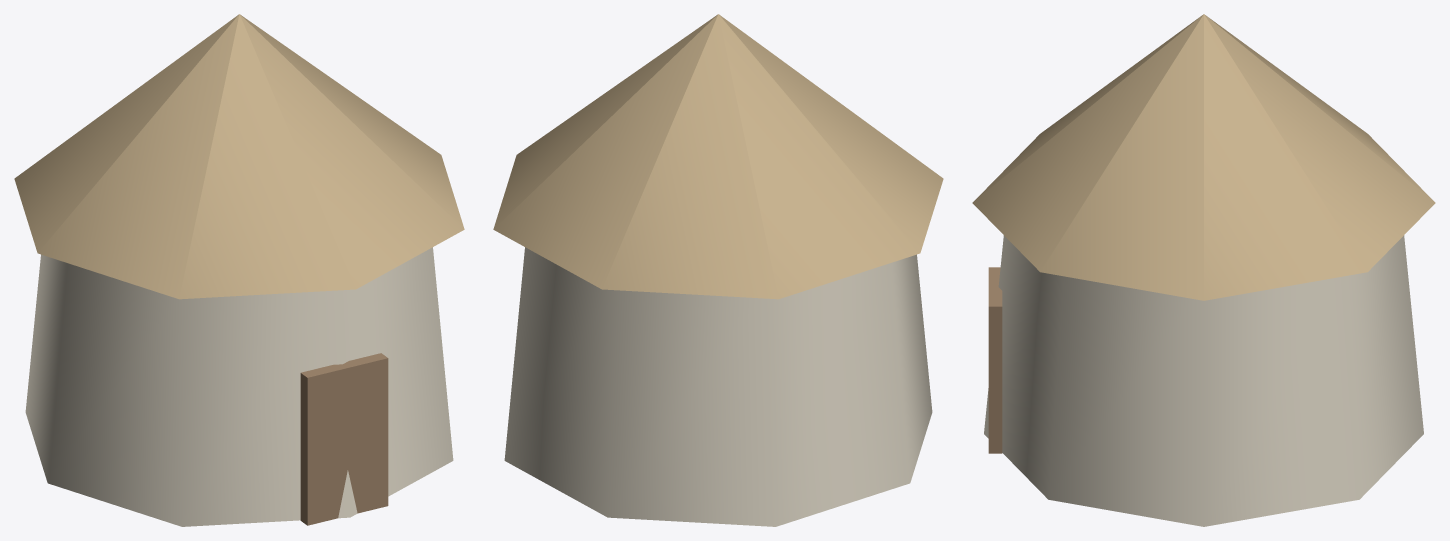
The model's file is hut.glb.
The picture shows the model from 3 angles, left to right: view 1: azimuth 30°, elevation 25°; view 2: azimuth 150°, elevation 25°; view 3: azimuth 270°, elevation 25°; orthographic projection.
Parts seen in each view (by area): view 1: hut; view 2: hut; view 3: hut.
Part boxes in pixels (<box>): hut: <box>14,14,464,526</box>; hut: <box>493,14,943,526</box>; hut: <box>972,14,1435,526</box>.
Size of the model in its own units: 2 by 2 by 2.
